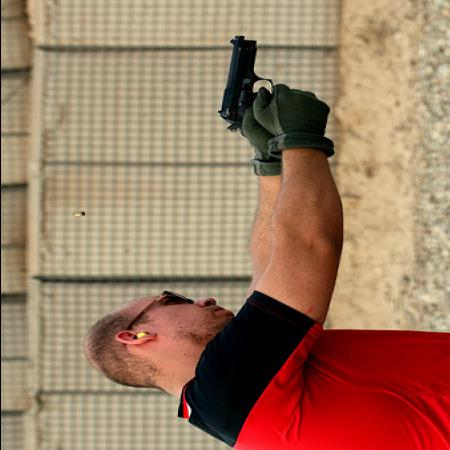Pistol: (205, 34, 274, 133)
